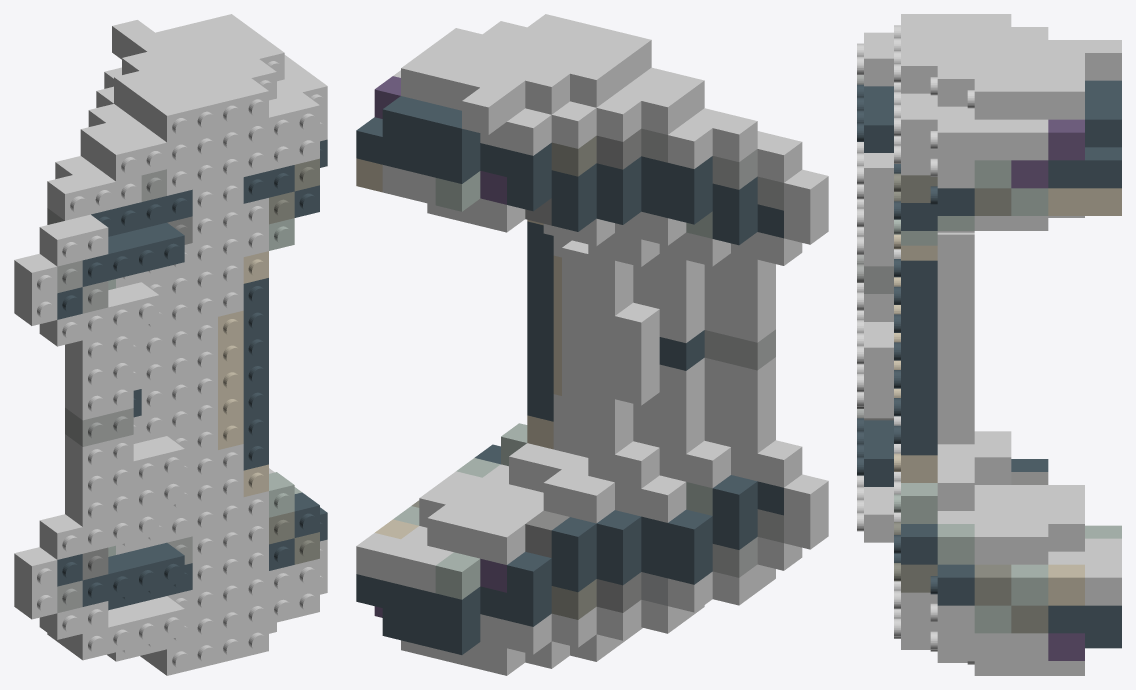
File: full.glb
3 views of the same model, side by side, from view 1: azimuth 30°, elevation 25°; view 2: azimuth 150°, elevation 25°; view 3: azimuth 270°, elevation 25° (orthographic). The views are drawn at different scales.
Parts seen in each view (by area): view 1: world; view 2: world; view 3: world.
Boxes of the visible parts, x1,y1,x2,y2 form: world: [14, 14, 327, 675]; world: [356, 14, 828, 675]; world: [857, 14, 1121, 675].
Bounding box in the file's own units: 104 × 168 × 69.
